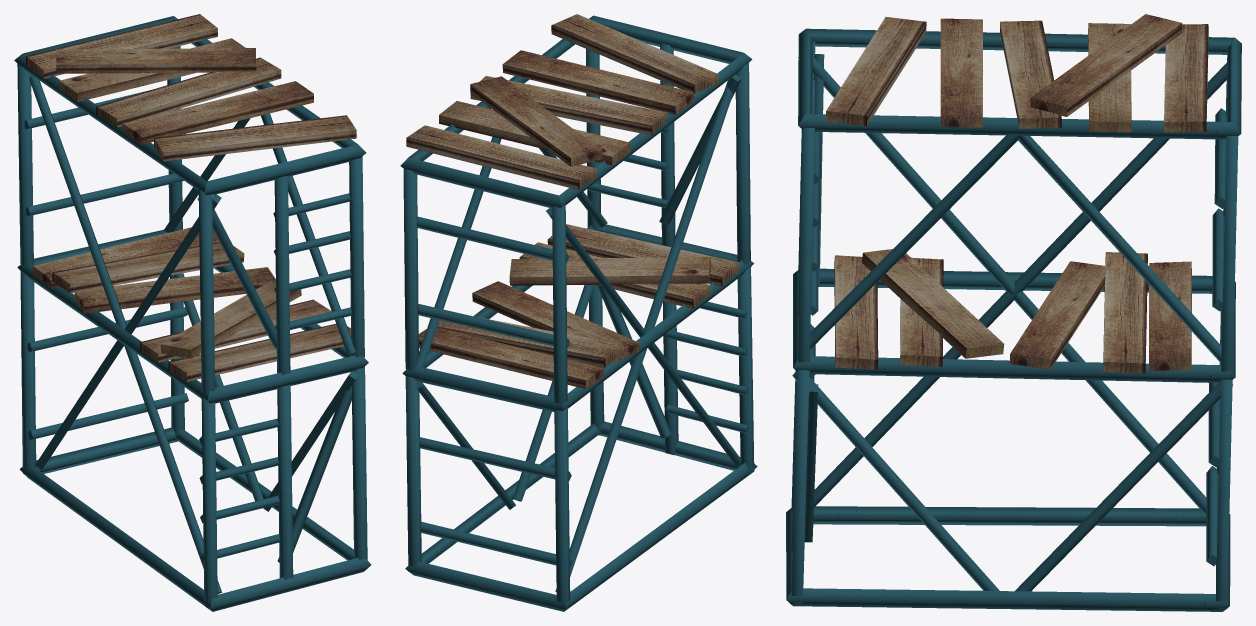
The model's file is Shelves_big02.glb.
The picture shows the model from 3 angles, left to right: view 1: azimuth 30°, elevation 25°; view 2: azimuth 150°, elevation 25°; view 3: azimuth 270°, elevation 25°; orthographic projection. The views are drawn at different scales.
Parts seen in each view (by area): view 1: Shelves_big02; view 2: Shelves_big02; view 3: Shelves_big02.
Part boxes in pixels (x1=…): Shelves_big02: x1=14, y1=14, x2=371, y2=611; Shelves_big02: x1=400, y1=14, x2=757, y2=611; Shelves_big02: x1=786, y1=14, x2=1241, y2=611.
Size of the model in its own units: 1.42 by 3.41 by 2.76.
Materials: 1 (1 with a texture image).
